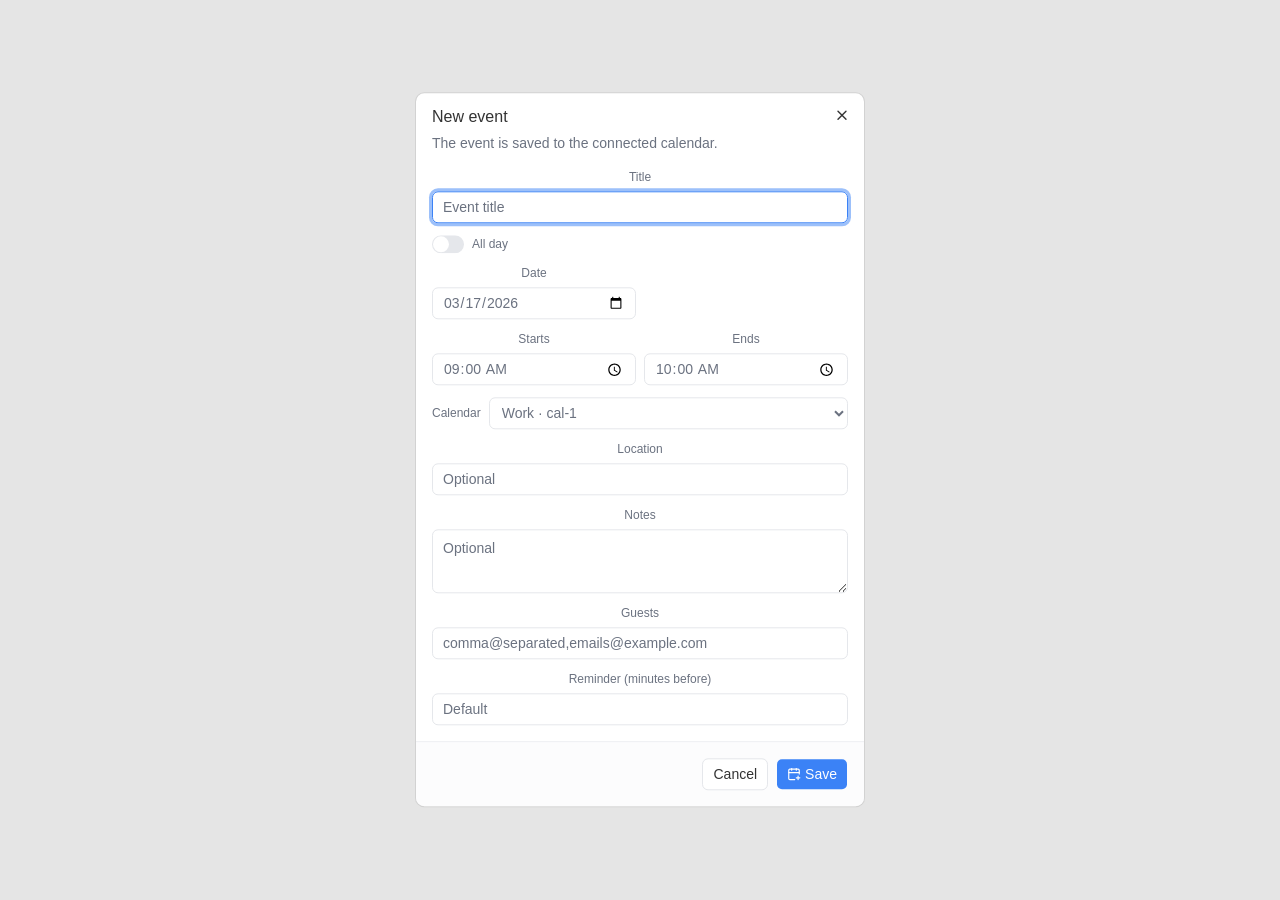
Test case: EventDialog failure paths (online-write surfacing) › shows the offline failure inline, preserves the form and stays open
Expected: the dropdown with test id "event-dialog-destination" is shown, [489, 398, 848, 430]
Type "Unsaved yet" into the field with test id "event-dialog-title" at (640, 207), box [432, 191, 848, 223]
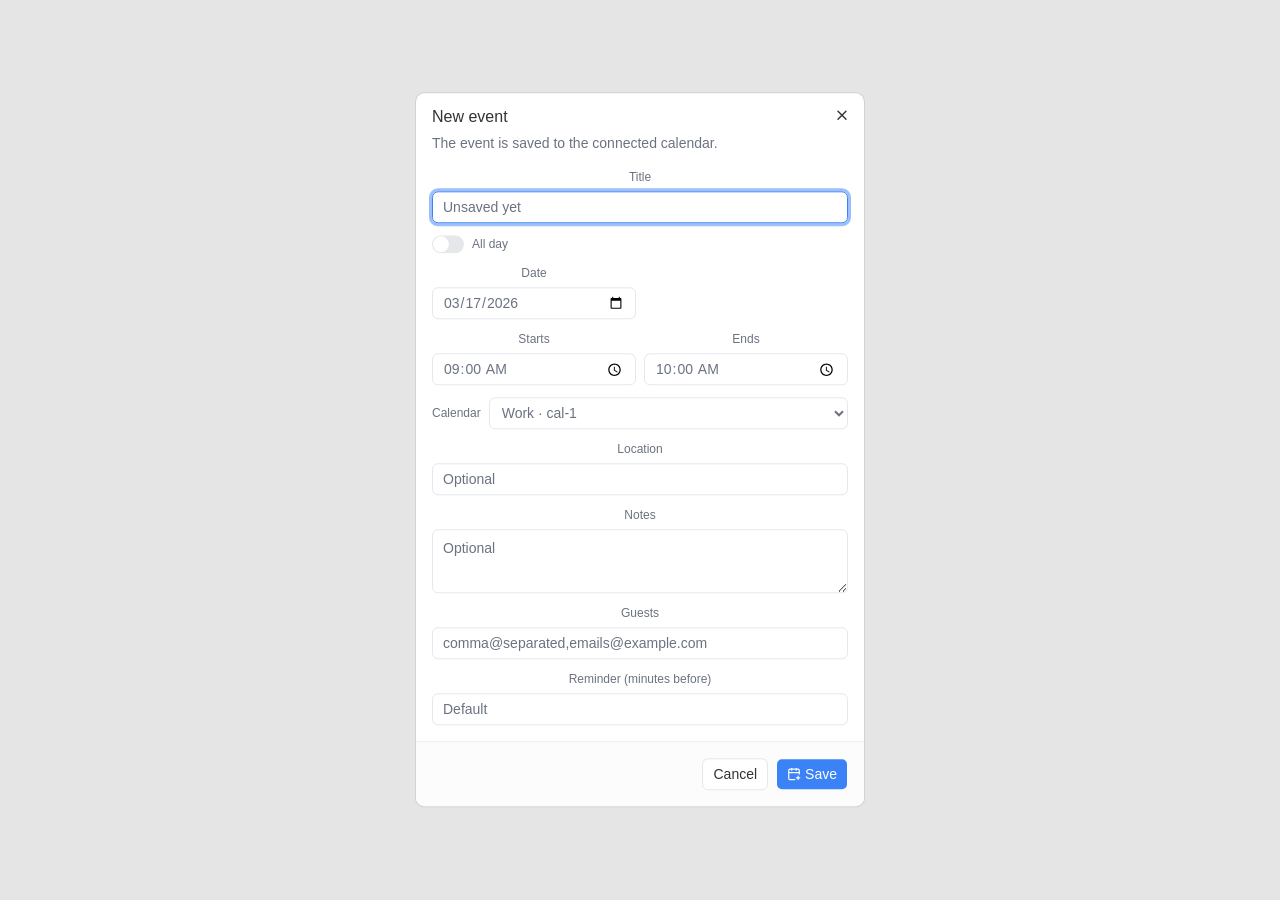
Click the button with test id "event-dialog-save" at (812, 775), box [776, 759, 848, 791]
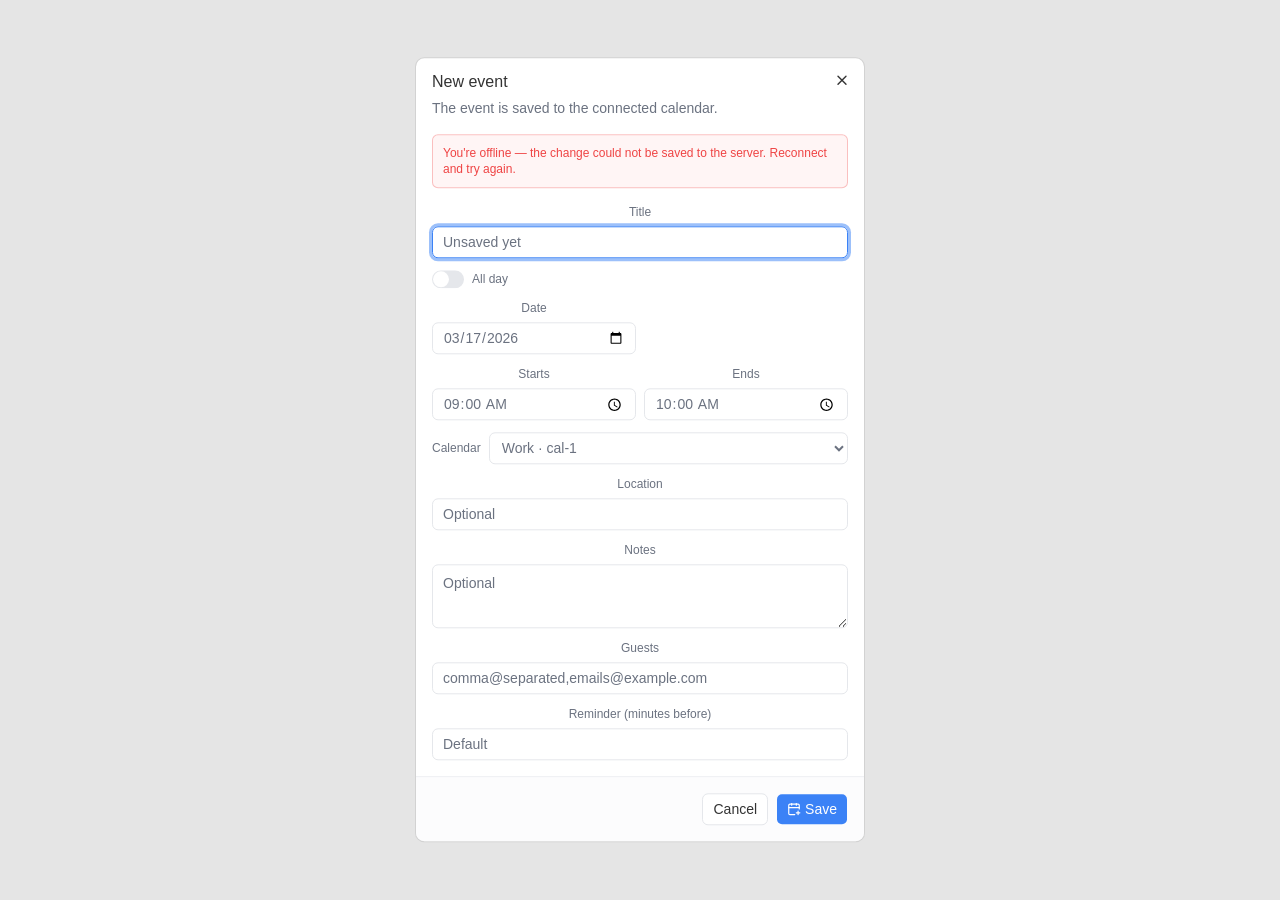
Expected: the message with test id "event-dialog-error" shows "offline", [443, 146, 827, 176]
